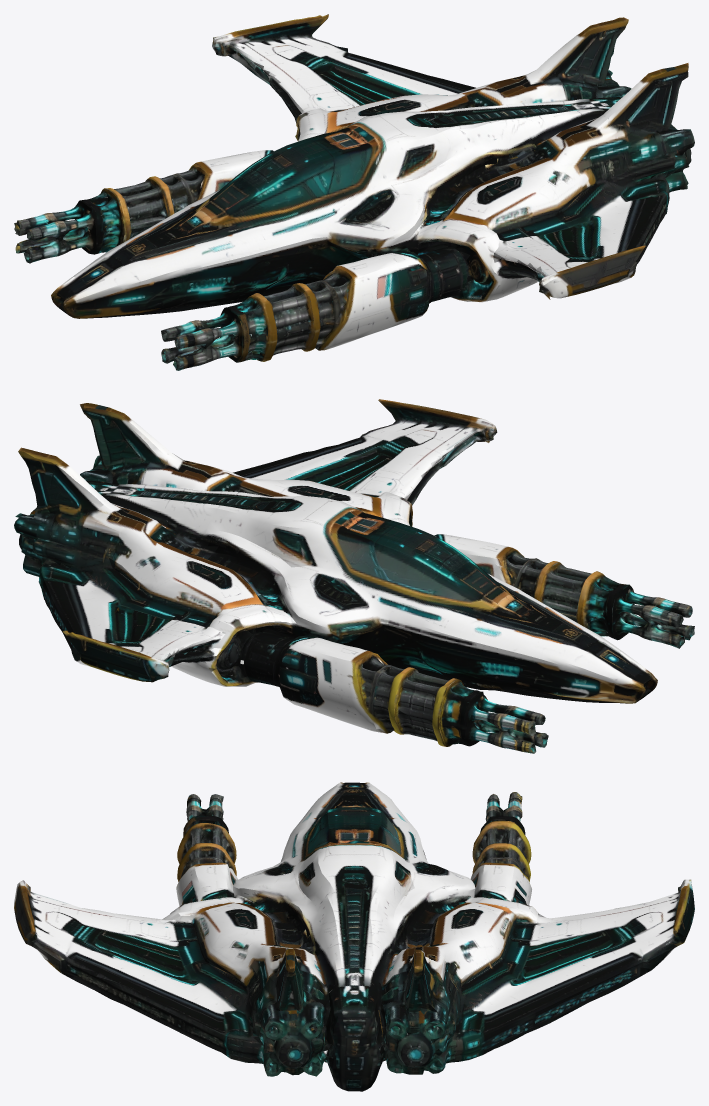
The model's file is blaster.glb.
3 views of the same model, one above another, from view 1: azimuth 30°, elevation 25°; view 2: azimuth 150°, elevation 25°; view 3: azimuth 270°, elevation 25° (orthographic).
Visible parts, largest first — view 1: Mesh0; view 2: Mesh0; view 3: Mesh0.
Boxes of the visible parts, bbox=[...] form: Mesh0: bbox=[14, 14, 694, 370]; Mesh0: bbox=[14, 399, 694, 753]; Mesh0: bbox=[14, 782, 694, 1091].
Size of the model in its own units: 1.91 by 0.4791 by 1.84.
1 material, 1 textured.
